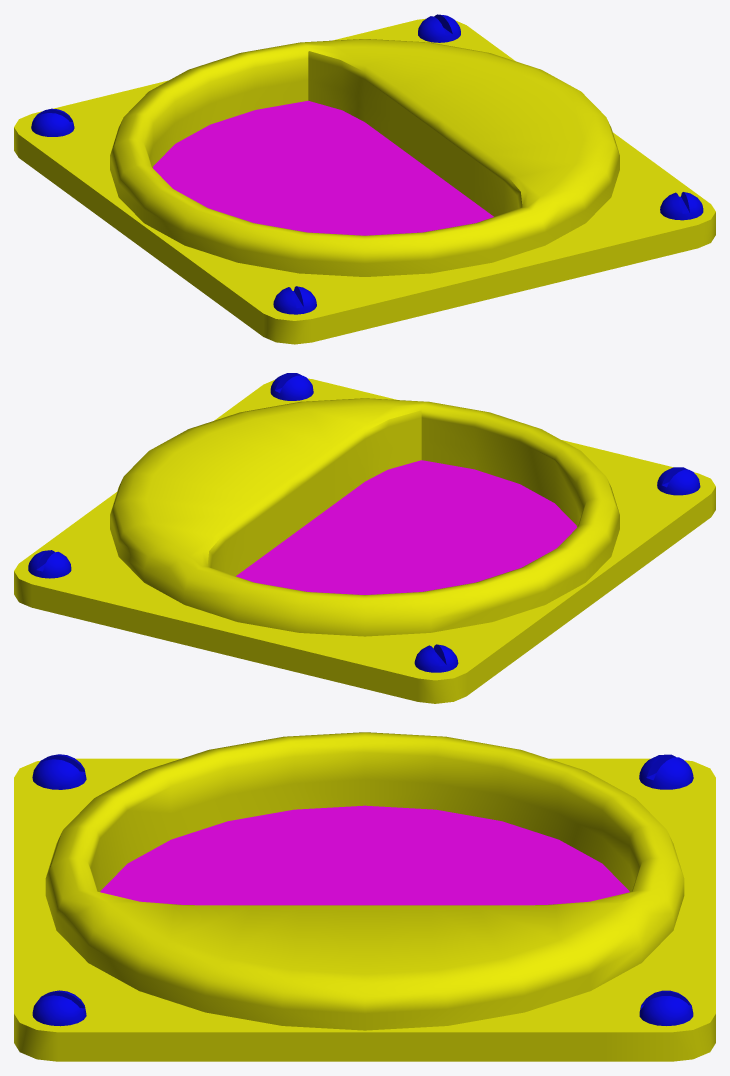
Rendered from Manomètre2.fbx.
3 renders of one model, top to bottom at view 1: azimuth 30°, elevation 25°; view 2: azimuth 150°, elevation 25°; view 3: azimuth 270°, elevation 25°, orthographic. The views are drawn at different scales.
Visible parts, largest first — view 1: polySurface93, polySurface94, polySurface92; view 2: polySurface93, polySurface94, polySurface92; view 3: polySurface93, polySurface94, polySurface92.
Boxes of the visible parts, <box> form: polySurface93: <box>14,18,715,344</box>; polySurface94: <box>153,100,493,235</box>; polySurface92: <box>31,14,703,314</box>; polySurface93: <box>14,378,715,703</box>; polySurface94: <box>236,460,576,594</box>; polySurface92: <box>28,373,700,672</box>; polySurface93: <box>14,732,715,1061</box>; polySurface94: <box>100,805,629,905</box>; polySurface92: <box>32,754,693,1026</box>.
Size of the model in its own units: 21.44 by 2.43 by 23.24.
